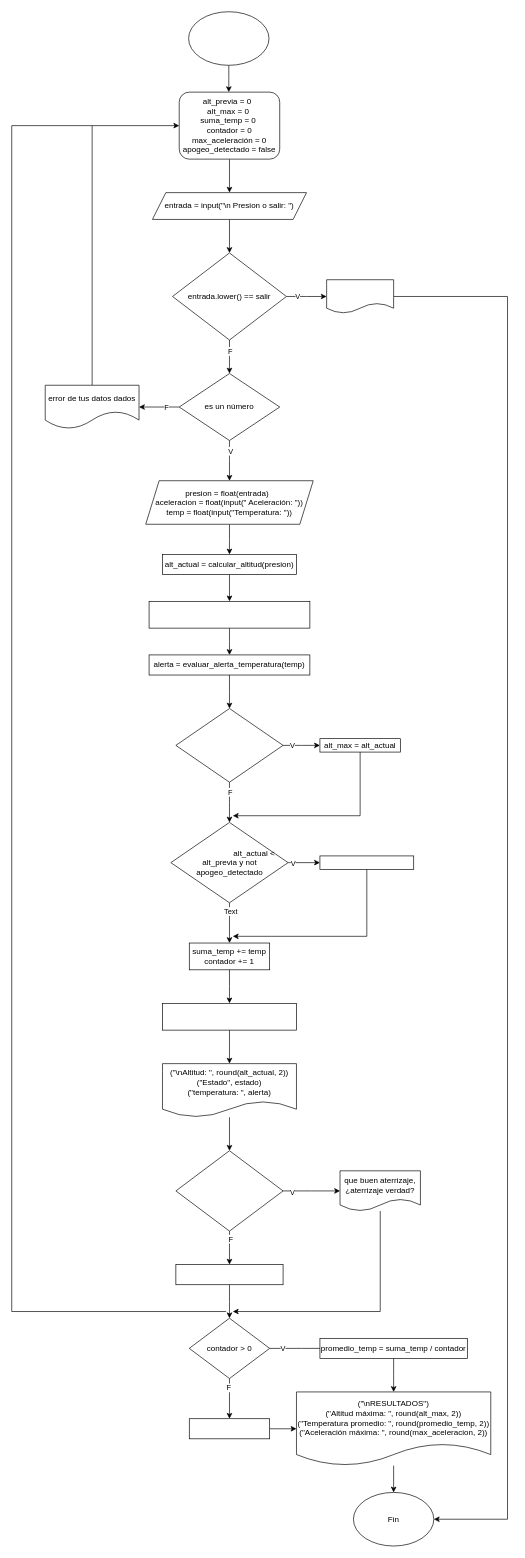
The diagram is 525 pixels wide and 1558 high, and some of its shapes have lost their labels. Each missing label, with the centre of its shape:
alt_actual <= 1 contador > 1: the point at 229,1190
alt_actual > alt_max: the point at 229,745
alt_previa = alt_actual: the point at 229,1274
apogeo_detectado = true: the point at 366,862
determinar_estado_vuelo(alt_actual, alt_previa, aceleracion_ apogeo_detectado): the point at 229,614
fin manual: the point at 360,296
if aceleracion > max_aceleracion: max_aceleracion = aceleracion: the point at 229,1016
Inicio: the point at 228,38
promedio_temp = 0: the point at 229,1428
